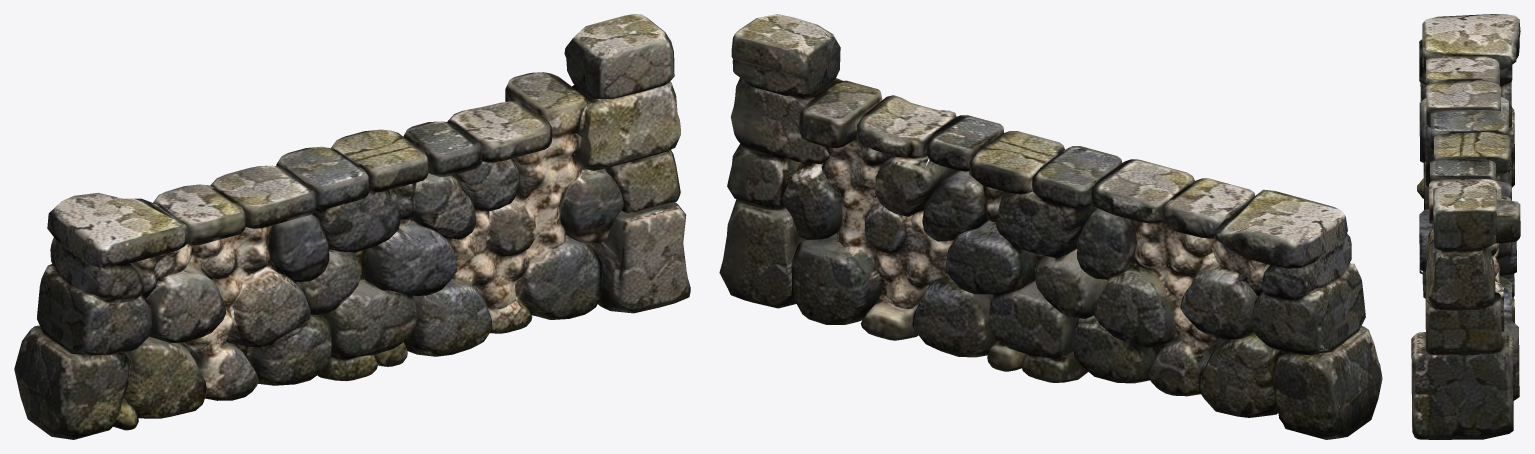
File: act1-a01-3-flint-wall.glb
The picture shows the model from 3 angles, left to right: view 1: azimuth 30°, elevation 25°; view 2: azimuth 150°, elevation 25°; view 3: azimuth 270°, elevation 25°; orthographic projection. The views are drawn at different scales.
Visible parts, largest first — view 1: act1-a01-3-flint-wall; view 2: act1-a01-3-flint-wall; view 3: act1-a01-3-flint-wall.
Boxes of the visible parts, bbox=[...] form: act1-a01-3-flint-wall: bbox=[14, 14, 690, 439]; act1-a01-3-flint-wall: bbox=[719, 14, 1382, 439]; act1-a01-3-flint-wall: bbox=[1411, 14, 1520, 439].
Size of the model in its own units: 3.4 by 1.37 by 0.5774.
1 material, 1 textured.
